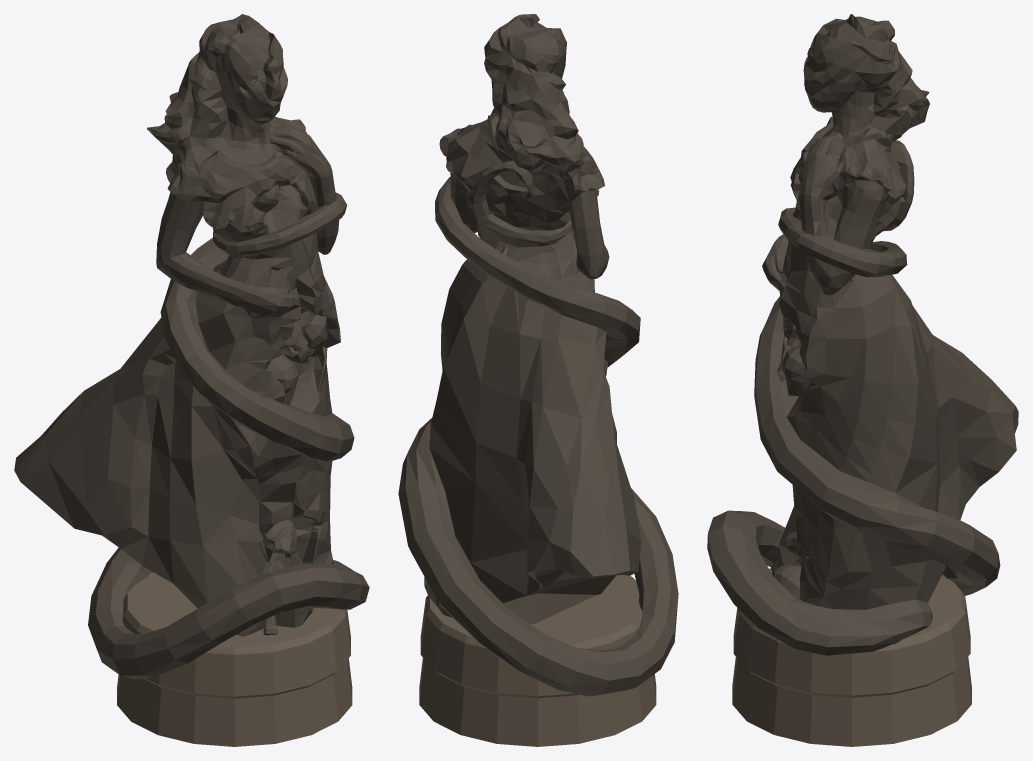
The model's file is statue.fbx.
3 views of the same model, side by side, from view 1: azimuth 30°, elevation 25°; view 2: azimuth 150°, elevation 25°; view 3: azimuth 270°, elevation 25° (orthographic).
Visible parts, largest first — view 1: skp3698_1; view 2: skp3698_1; view 3: skp3698_1.
Boxes of the visible parts, box(x1,y1,x2,y2) form: skp3698_1: box(14, 14, 369, 746); skp3698_1: box(398, 14, 678, 746); skp3698_1: box(707, 14, 1018, 746).
Size of the model in its own units: 1.11 by 2.67 by 1.1.
